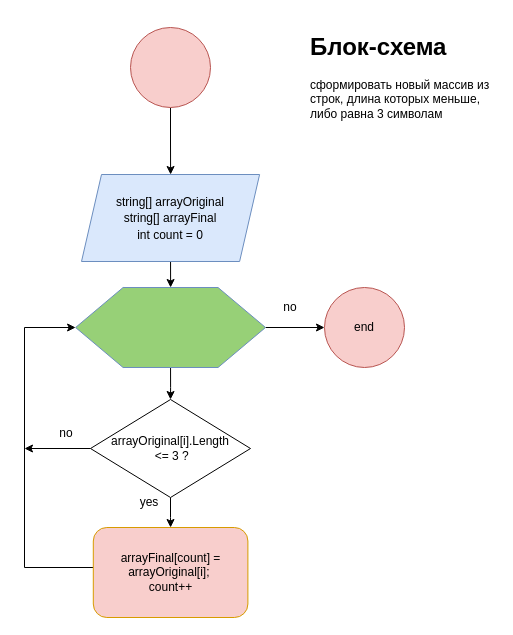
Some shapes in this 513 by 635 pixel diagram are drawn without their labels. The box of each missing label's shape, as (x1, y1, x2, y2) in pixels:
i=0; i<arrayOriginal.Length; i++: (75, 286, 266, 368)
start: (130, 26, 210, 108)
